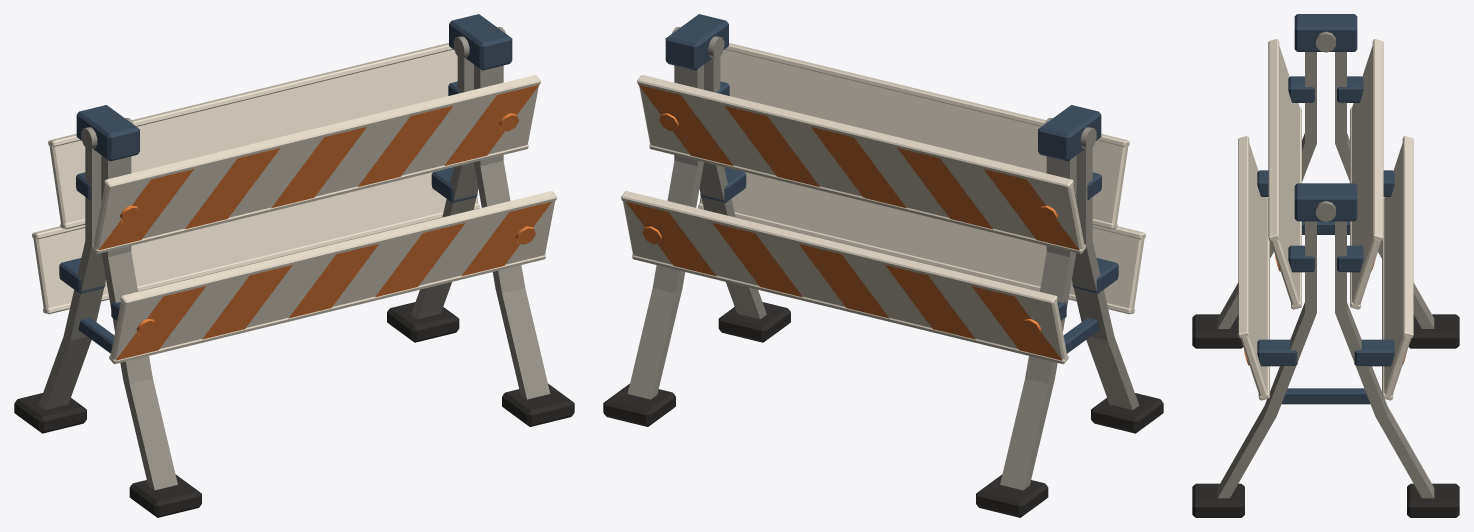
File: roadblock.glb
The picture shows the model from 3 angles, left to right: view 1: azimuth 30°, elevation 25°; view 2: azimuth 150°, elevation 25°; view 3: azimuth 270°, elevation 25°; orthographic projection. The views are drawn at different scales.
Visible parts, largest first — view 1: roadblock.roadblock-L0.boards.0, roadblock.roadblock-L0.boards.folded-edges.13, roadblock.roadblock-L0.frame.splayed-legs--0.56.1, roadblock.roadblock-L0.frame.splayed-legs-0.56.7, roadblock.roadblock-L0.frame.shoes--0.56.2, roadblock.roadblock-L0.frame.shoes-0.56.8, roadblock.roadblock-L0.frame.hinge--0.56.3, roadblock.roadblock-L0.frame.hinge-0.56.9, roadblock.roadblock-L0.boards.saddles--0.56-0.48.5, roadblock.roadblock-L0.frame.lock-brace--0.56.4, roadblock.roadblock-L0.boards.saddles-0.56-0.48.11; view 2: roadblock.roadblock-L0.boards.0, roadblock.roadblock-L0.boards.folded-edges.13, roadblock.roadblock-L0.frame.splayed-legs--0.56.1, roadblock.roadblock-L0.frame.splayed-legs-0.56.7, roadblock.roadblock-L0.frame.shoes--0.56.2, roadblock.roadblock-L0.frame.shoes-0.56.8, roadblock.roadblock-L0.frame.hinge--0.56.3, roadblock.roadblock-L0.frame.hinge-0.56.9, roadblock.roadblock-L0.boards.saddles--0.56-0.48.5, roadblock.roadblock-L0.frame.lock-brace--0.56.4, roadblock.roadblock-L0.boards.saddles-0.56-0.48.11; view 3: roadblock.roadblock-L0.boards.0, roadblock.roadblock-L0.boards.folded-edges.13, roadblock.roadblock-L0.frame.splayed-legs-0.56.7, roadblock.roadblock-L0.frame.splayed-legs--0.56.1, roadblock.roadblock-L0.frame.shoes-0.56.8, roadblock.roadblock-L0.frame.shoes--0.56.2, roadblock.roadblock-L0.frame.hinge-0.56.9, roadblock.roadblock-L0.frame.hinge--0.56.3, roadblock.roadblock-L0.boards.saddles-0.56-0.48.11, roadblock.roadblock-L0.frame.lock-brace-0.56.10, roadblock.roadblock-L0.boards.saddles-0.56-0.77.12, roadblock.roadblock-L0.boards.saddles--0.56-0.77.6 (+2 smaller).
Boxes of the visible parts, <box> form: roadblock.roadblock-L0.boards.0: <box>33,49,554,362</box>; roadblock.roadblock-L0.boards.folded-edges.13: <box>32,43,556,364</box>; roadblock.roadblock-L0.frame.splayed-legs--0.56.1: <box>38,147,177,490</box>; roadblock.roadblock-L0.frame.splayed-legs-0.56.7: <box>411,57,550,399</box>; roadblock.roadblock-L0.frame.shoes--0.56.2: <box>14,393,201,517</box>; roadblock.roadblock-L0.frame.shoes-0.56.8: <box>387,302,574,426</box>; roadblock.roadblock-L0.frame.hinge--0.56.3: <box>76,105,139,161</box>; roadblock.roadblock-L0.frame.hinge-0.56.9: <box>449,14,512,70</box>; roadblock.roadblock-L0.boards.saddles--0.56-0.48.5: <box>59,258,120,320</box>; roadblock.roadblock-L0.frame.lock-brace--0.56.4: <box>78,318,114,353</box>; roadblock.roadblock-L0.boards.saddles-0.56-0.48.11: <box>431,167,477,202</box>; roadblock.roadblock-L0.boards.0: <box>623,49,1144,362</box>; roadblock.roadblock-L0.boards.folded-edges.13: <box>621,43,1145,364</box>; roadblock.roadblock-L0.frame.splayed-legs--0.56.1: <box>1000,147,1139,490</box>; roadblock.roadblock-L0.frame.splayed-legs-0.56.7: <box>627,57,766,399</box>; roadblock.roadblock-L0.frame.shoes--0.56.2: <box>976,393,1163,517</box>; roadblock.roadblock-L0.frame.shoes-0.56.8: <box>603,302,790,426</box>; roadblock.roadblock-L0.frame.hinge--0.56.3: <box>1038,105,1101,161</box>; roadblock.roadblock-L0.frame.hinge-0.56.9: <box>665,14,728,70</box>; roadblock.roadblock-L0.boards.saddles--0.56-0.48.5: <box>1057,258,1118,320</box>; roadblock.roadblock-L0.frame.lock-brace--0.56.4: <box>1063,318,1099,353</box>; roadblock.roadblock-L0.boards.saddles-0.56-0.48.11: <box>700,167,746,202</box>; roadblock.roadblock-L0.boards.0: <box>1241,46,1410,396</box>; roadblock.roadblock-L0.boards.folded-edges.13: <box>1238,39,1413,400</box>; roadblock.roadblock-L0.frame.splayed-legs-0.56.7: <box>1217,221,1434,498</box>; roadblock.roadblock-L0.frame.splayed-legs--0.56.1: <box>1217,52,1434,328</box>; roadblock.roadblock-L0.frame.shoes-0.56.8: <box>1192,483,1459,517</box>; roadblock.roadblock-L0.frame.shoes--0.56.2: <box>1192,314,1459,348</box>; roadblock.roadblock-L0.frame.hinge-0.56.9: <box>1294,183,1357,221</box>; roadblock.roadblock-L0.frame.hinge--0.56.3: <box>1294,14,1357,52</box>; roadblock.roadblock-L0.boards.saddles-0.56-0.48.11: <box>1257,339,1394,366</box>; roadblock.roadblock-L0.frame.lock-brace-0.56.10: <box>1281,388,1370,404</box>; roadblock.roadblock-L0.boards.saddles-0.56-0.77.12: <box>1288,245,1363,272</box>; roadblock.roadblock-L0.boards.saddles--0.56-0.77.6: <box>1288,76,1363,102</box>.
Size of the model in its own units: 1.3 by 0.984 by 0.748.
